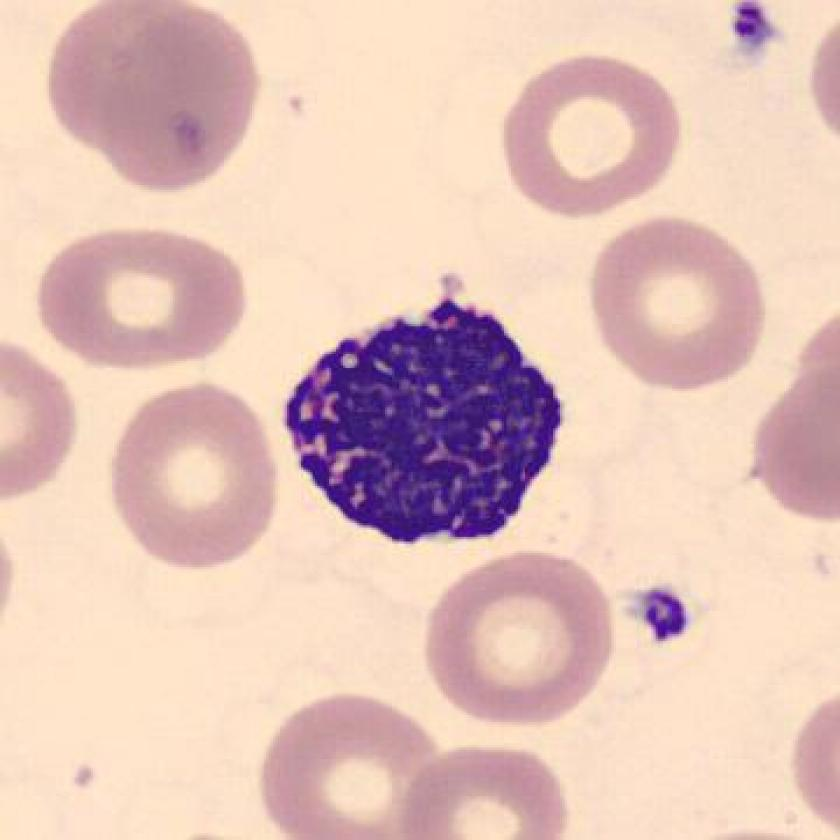basophil: (277, 276, 578, 559)
